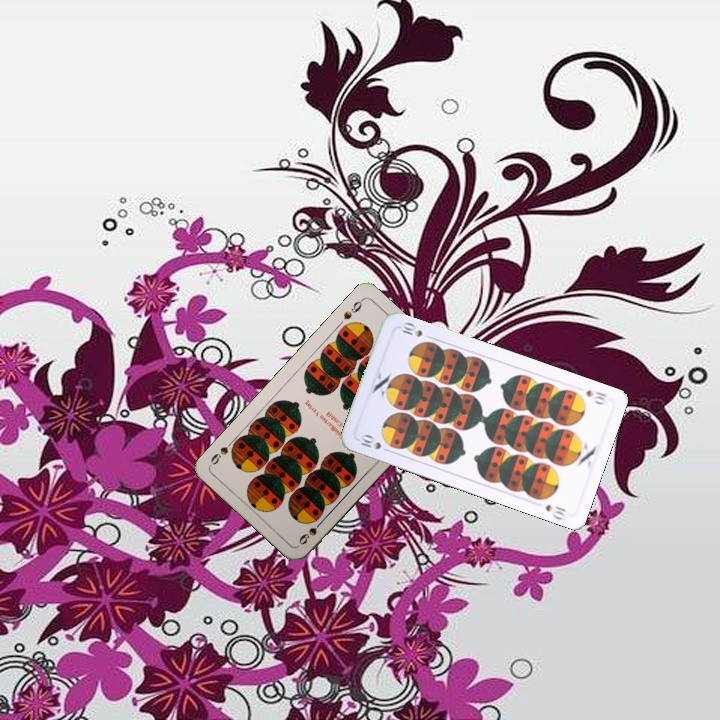S10: (354, 430, 394, 455), (582, 386, 609, 407)
S9: (294, 515, 327, 548), (339, 295, 366, 322)
